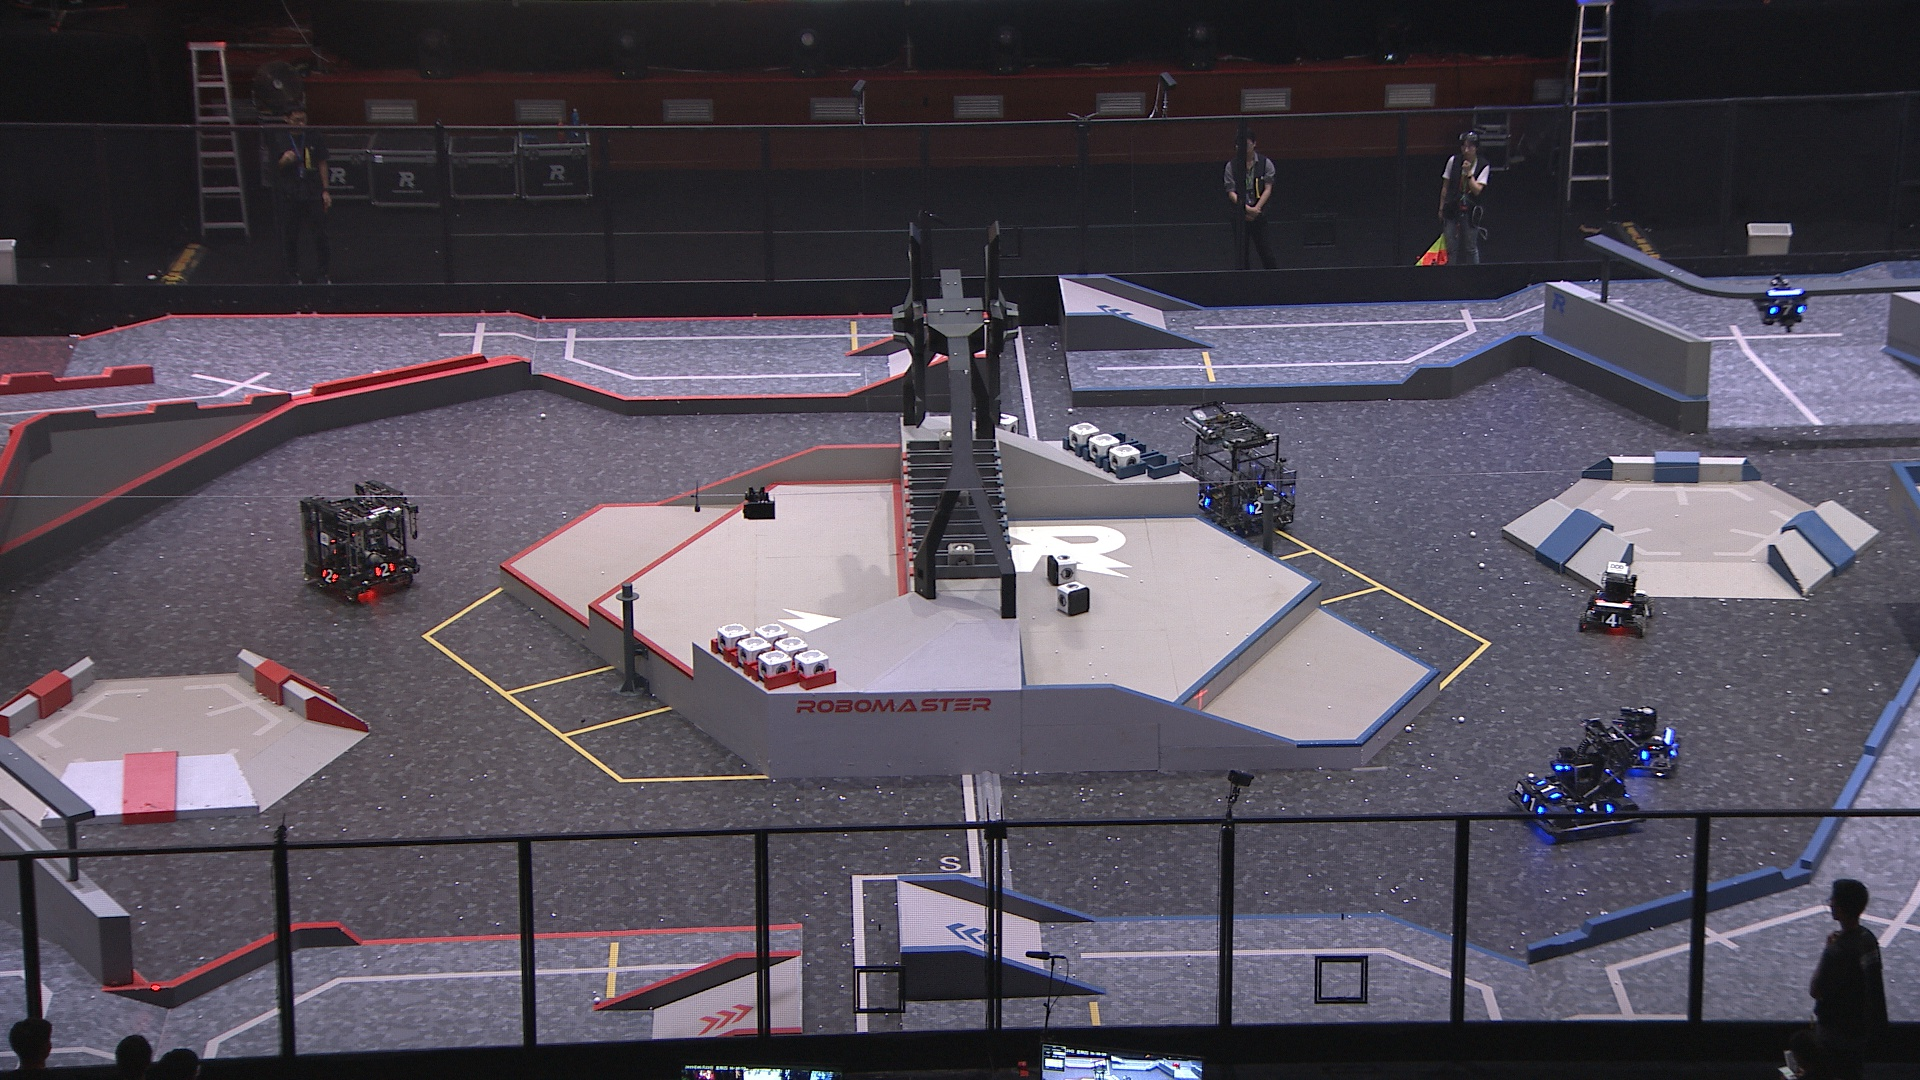armor: (1575, 802, 1617, 818), (1538, 778, 1563, 800), (1522, 794, 1547, 816), (1768, 302, 1807, 316), (372, 562, 398, 579), (320, 568, 342, 585), (1600, 613, 1623, 628), (1247, 500, 1266, 516), (1195, 493, 1212, 508), (1642, 603, 1652, 618)
car: (1510, 719, 1648, 843), (1171, 405, 1296, 541), (295, 476, 423, 604), (1577, 560, 1662, 644), (1600, 704, 1687, 778)
watcher: (1753, 276, 1811, 334)
